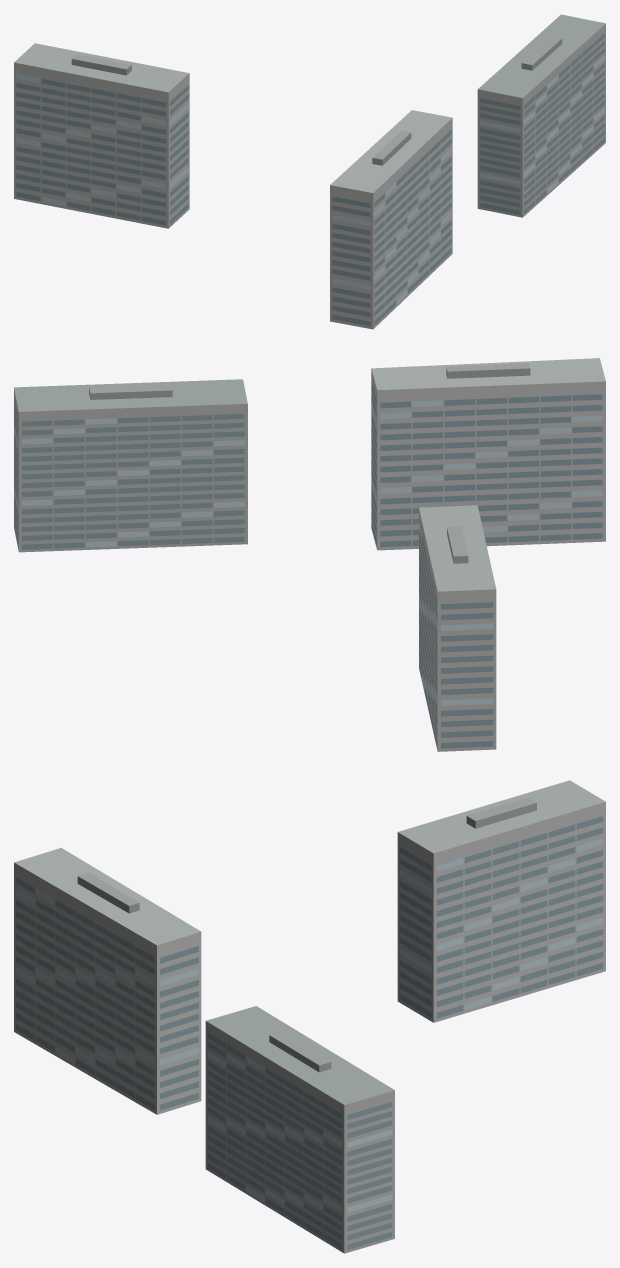
The model's file is apt-a10023996.glb.
3 renders of one model, top to bottom at view 1: azimuth 30°, elevation 25°; view 2: azimuth 150°, elevation 25°; view 3: azimuth 270°, elevation 25°, orthographic. The views are drawn at different scales.
Parts seen in each view (by area): view 1: apt-a10023996; view 2: apt-a10023996; view 3: apt-a10023996.
Part boxes in pixels (<box>): apt-a10023996: <box>14,14,605,329</box>; apt-a10023996: <box>14,358,605,751</box>; apt-a10023996: <box>14,780,605,1253</box>.
Size of the model in its own units: 176 by 47.81 by 145.
